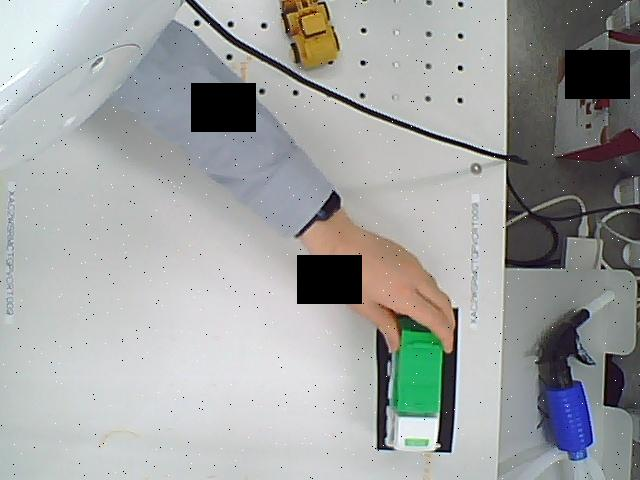Electric car: (392, 328, 444, 456)
Gasoline car: (275, 0, 345, 73)
